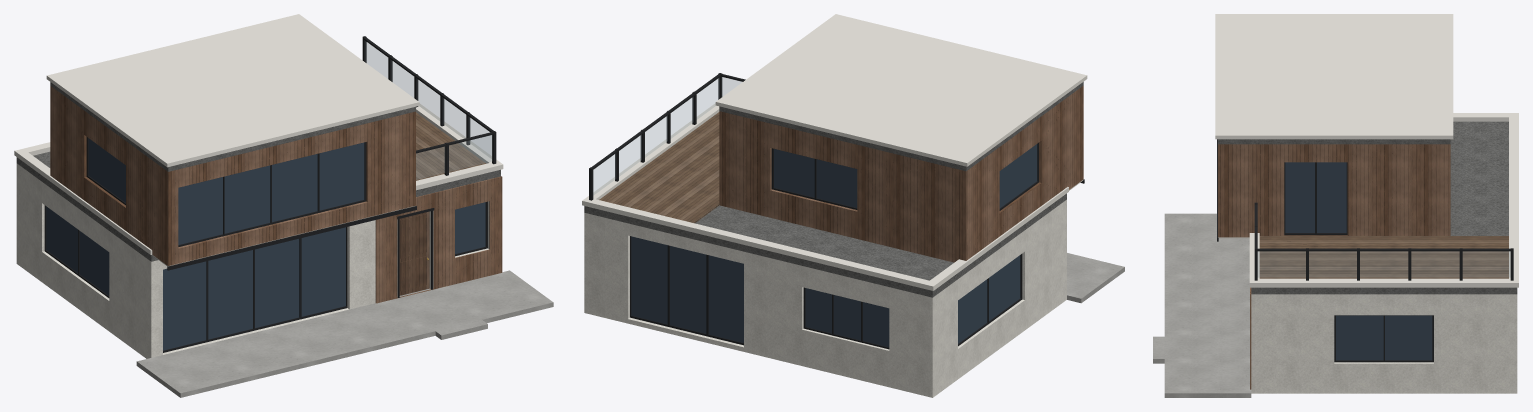
File: modern-house.glb
3 views of the same model, side by side, from view 1: azimuth 30°, elevation 25°; view 2: azimuth 150°, elevation 25°; view 3: azimuth 270°, elevation 25° (orthographic).
Visible parts, largest first — view 1: Modern_House; view 2: Modern_House; view 3: Modern_House.
Boxes of the visible parts, left/top/right/bottom form: Modern_House: left=14, top=14, right=553, bottom=397; Modern_House: left=582, top=14, right=1124, bottom=397; Modern_House: left=1153, top=14, right=1518, bottom=397.
Bounding box in the file's own units: 12.8 × 6.97 × 11.
Materials: 12 (6 with a texture image).
